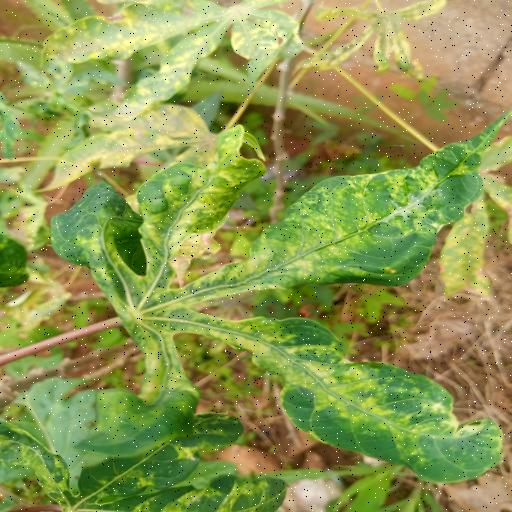Cassava_Mosaic: (60, 122, 512, 482)
